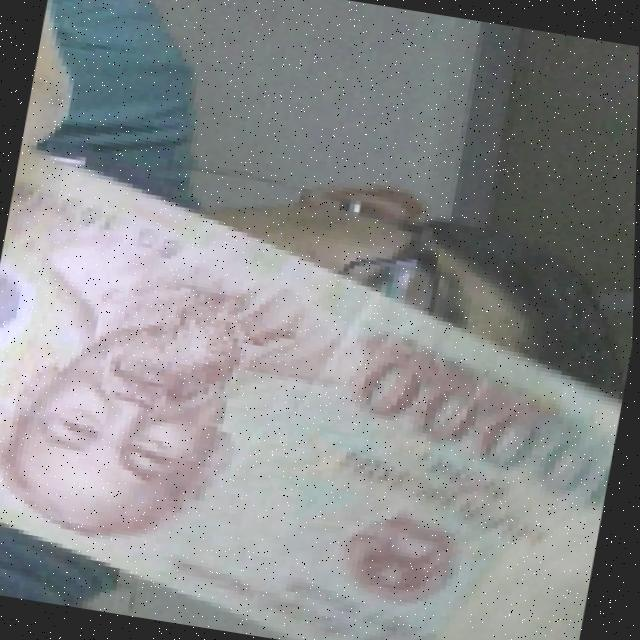10 000 VND: (0, 139, 638, 640)
